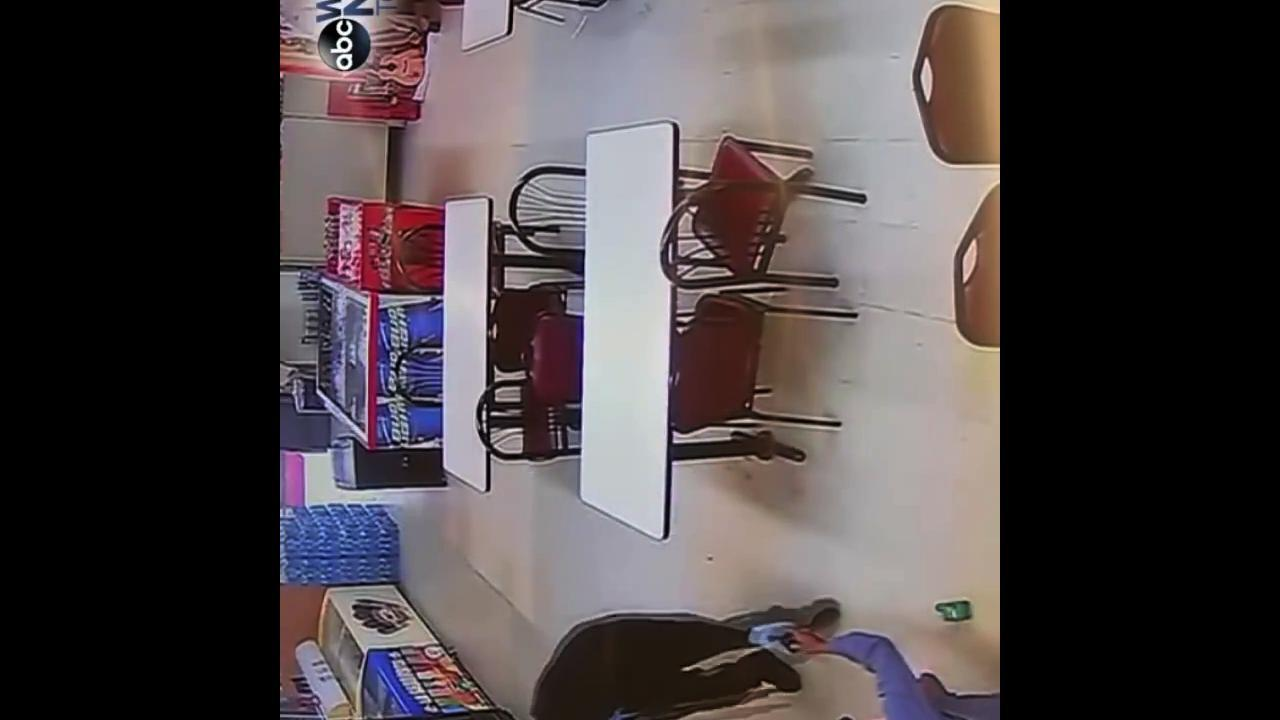gun: (610, 679, 796, 720)
